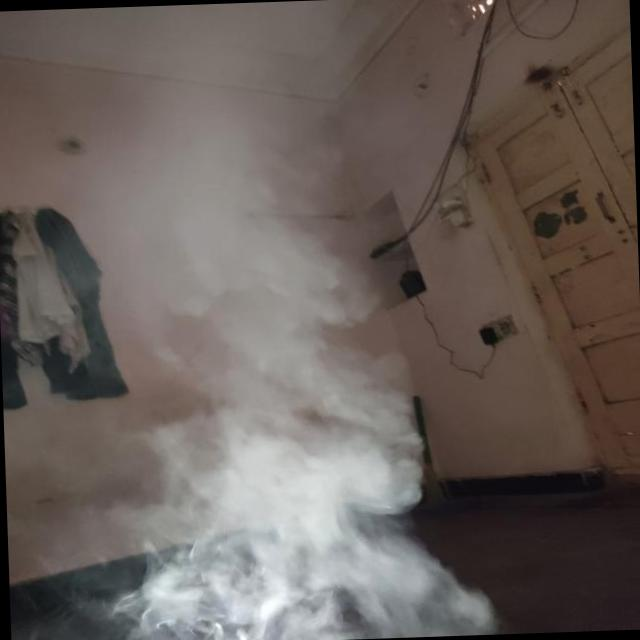smoke: (171, 247, 476, 640)
